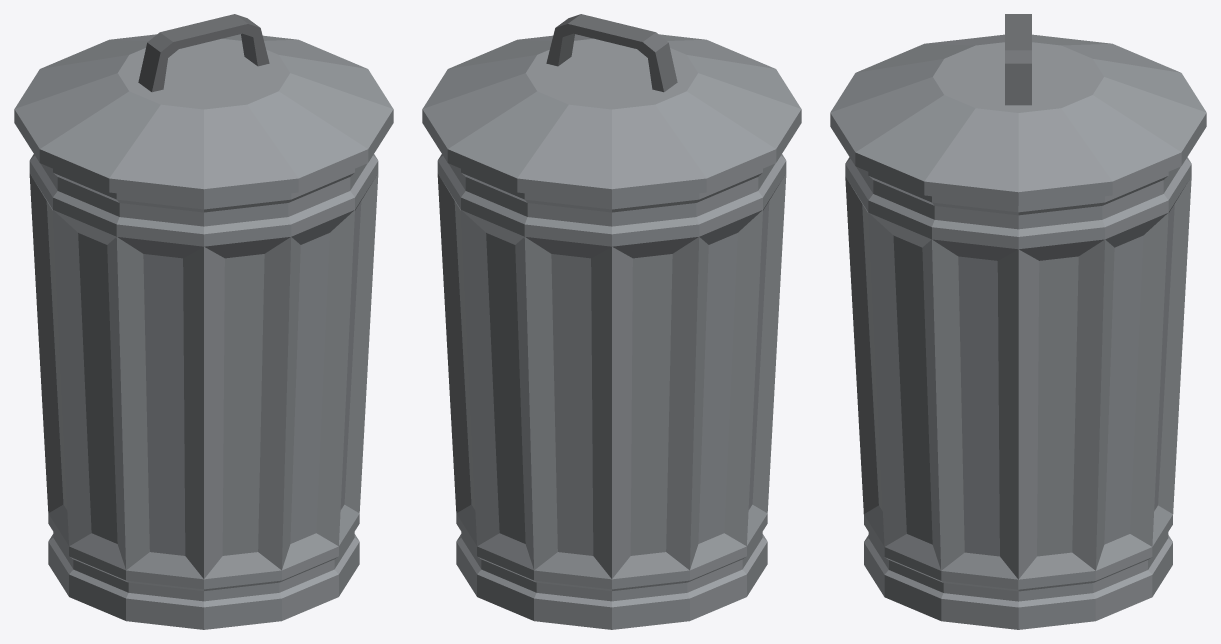
Rendered from SM_Prop_RubbishBin_01.fbx.
3 views of the same model, side by side, from view 1: azimuth 30°, elevation 25°; view 2: azimuth 150°, elevation 25°; view 3: azimuth 270°, elevation 25° (orthographic).
Visible parts, largest first — view 1: SM_Prop_RubbishBin_01, SM_Prop_RubbishBin_01_Lid; view 2: SM_Prop_RubbishBin_01, SM_Prop_RubbishBin_01_Lid; view 3: SM_Prop_RubbishBin_01, SM_Prop_RubbishBin_01_Lid.
Boxes of the visible parts, x1,y1,x2,y2 form: SM_Prop_RubbishBin_01: (29, 154, 378, 629); SM_Prop_RubbishBin_01_Lid: (14, 14, 393, 202); SM_Prop_RubbishBin_01: (437, 154, 786, 629); SM_Prop_RubbishBin_01_Lid: (422, 14, 801, 202); SM_Prop_RubbishBin_01: (845, 157, 1191, 629); SM_Prop_RubbishBin_01_Lid: (830, 14, 1206, 205).
Size of the model in its own units: 57.93 by 90.39 by 57.93.
